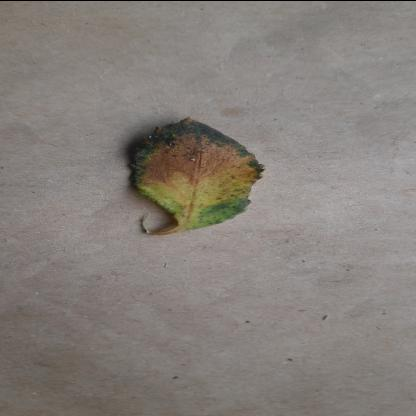black-spot: (127, 113, 268, 228)
